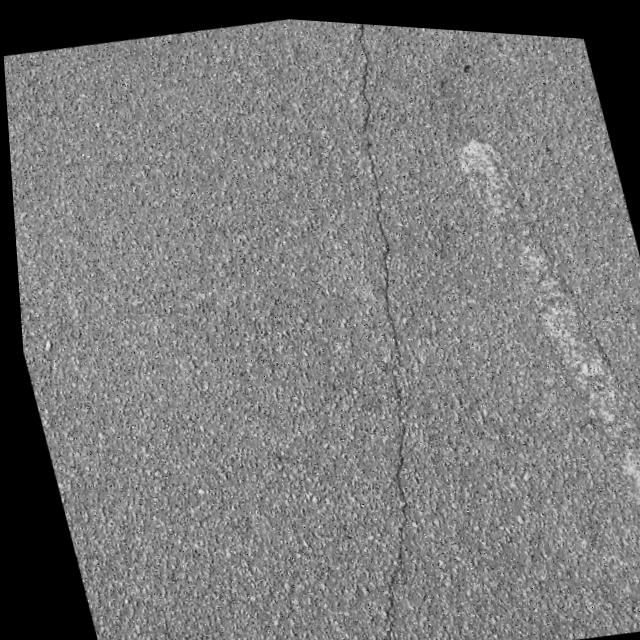Crack: (221, 12, 532, 640)
